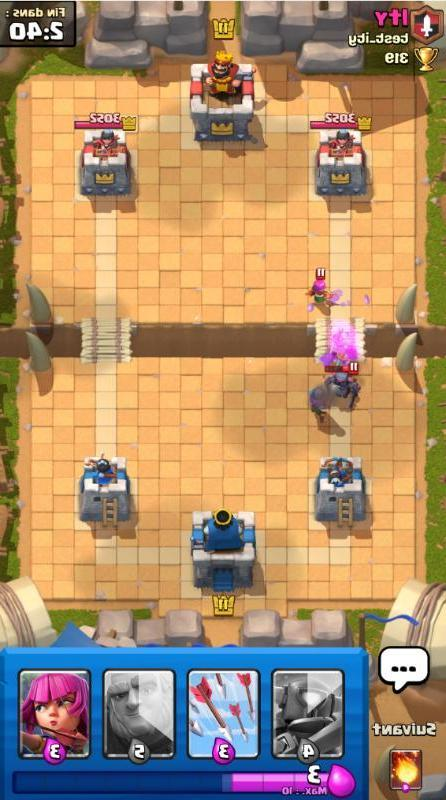enemy_archers: (305, 269, 335, 312)
enemy_mini_pekka: (323, 357, 367, 413)
player_musketeer: (304, 380, 341, 428)
